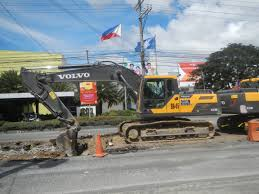excavator: (18, 60, 215, 159)
